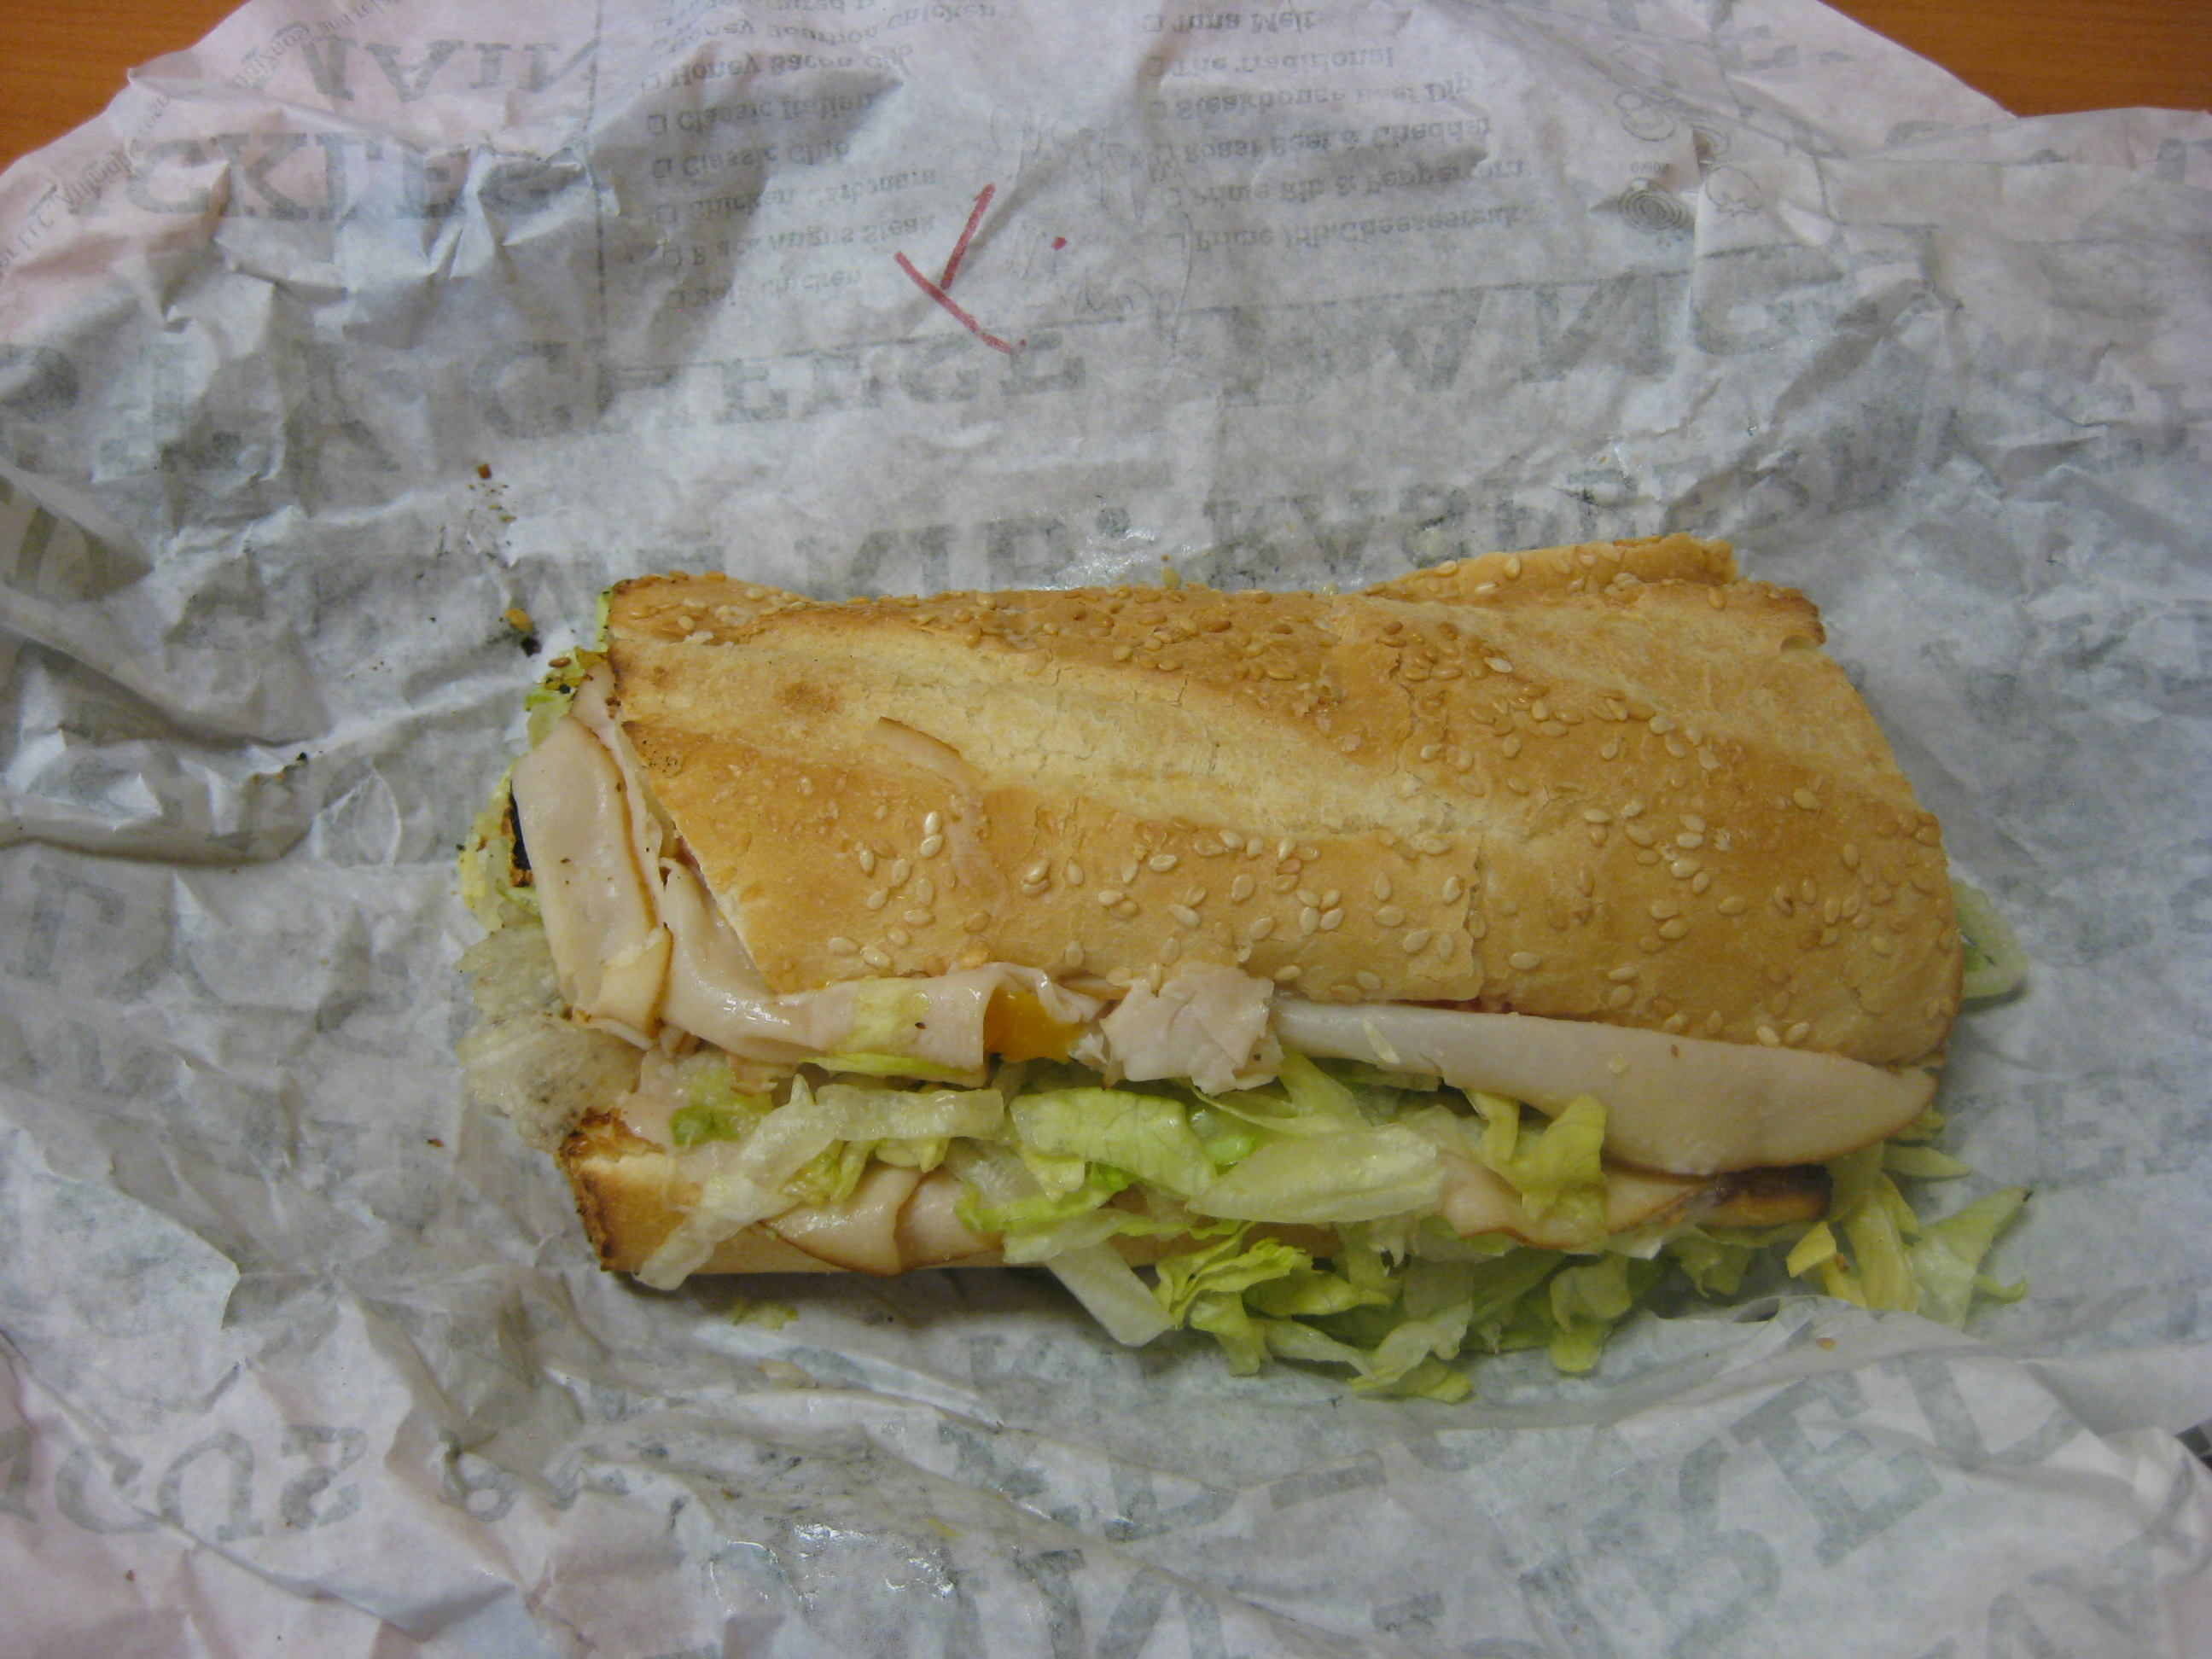sub: (461, 527, 2051, 1358)
